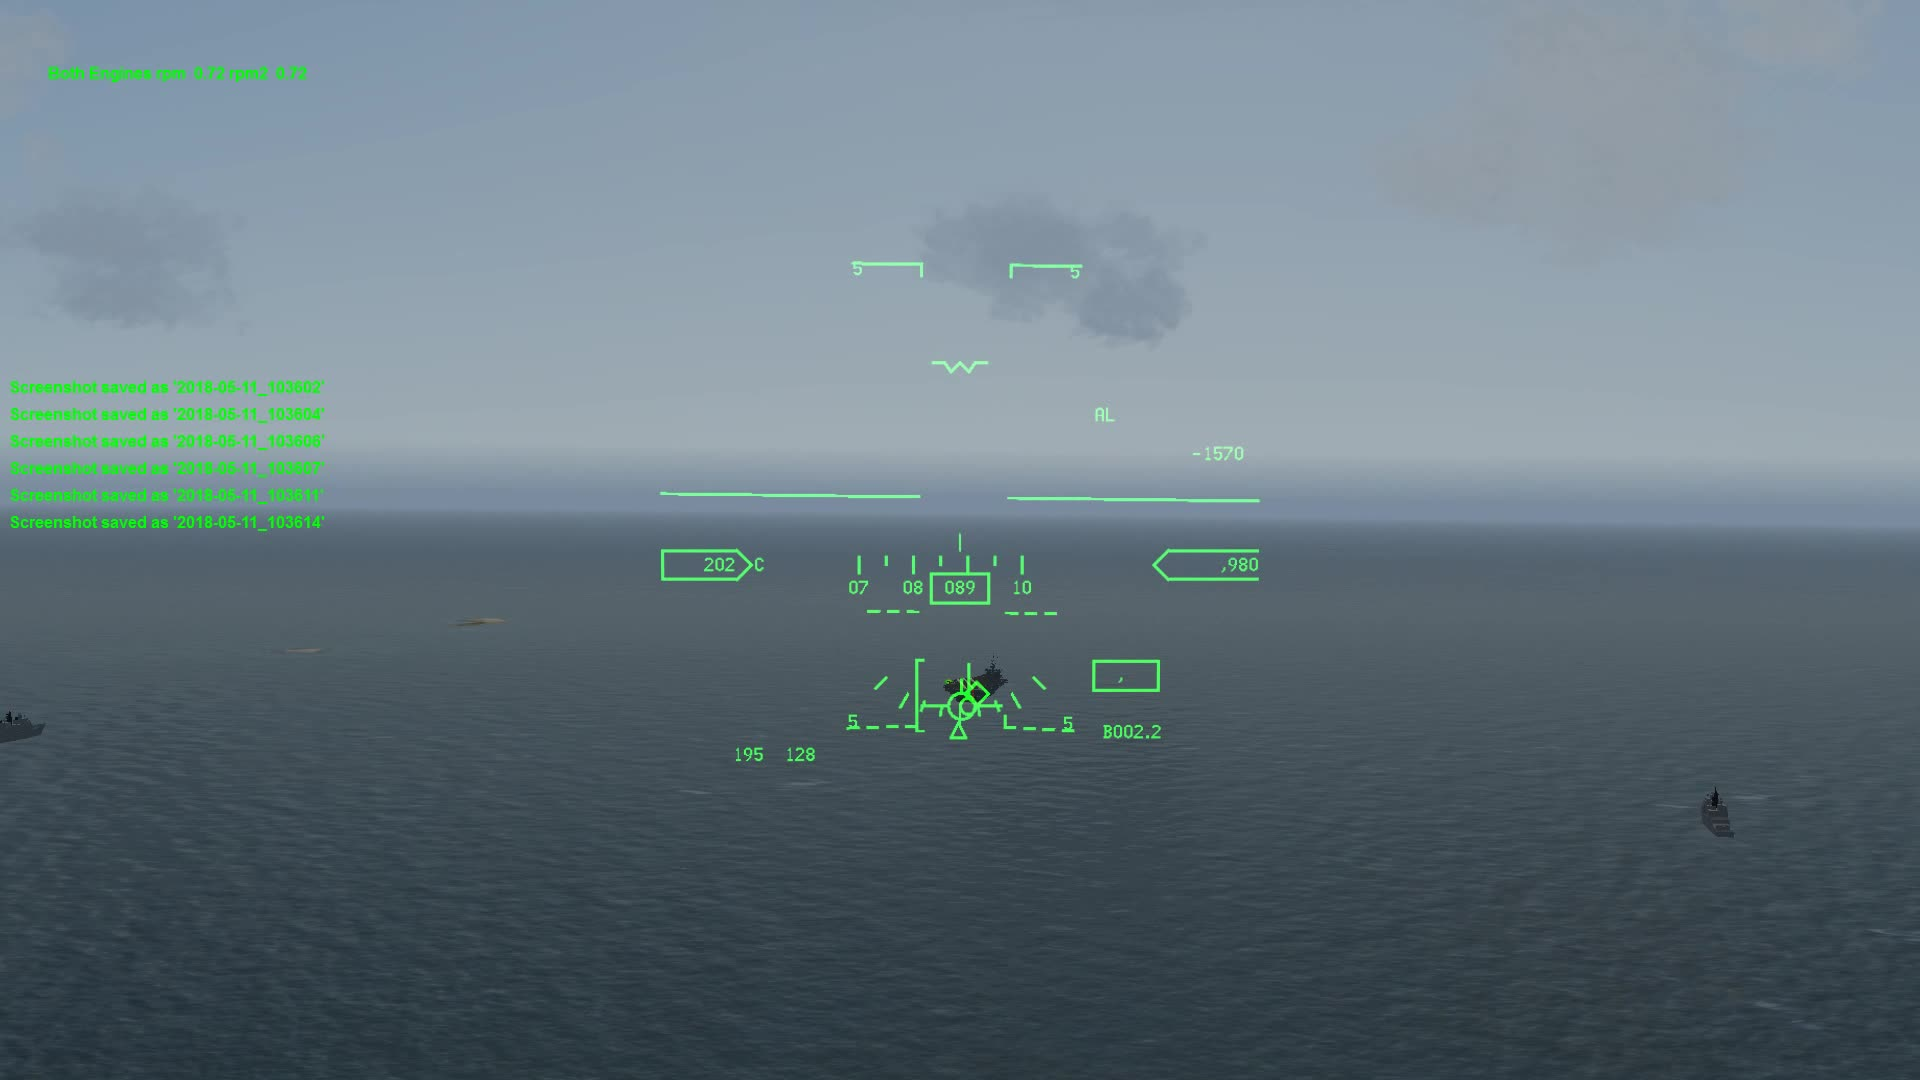speed vector: (922, 674, 1013, 717)
